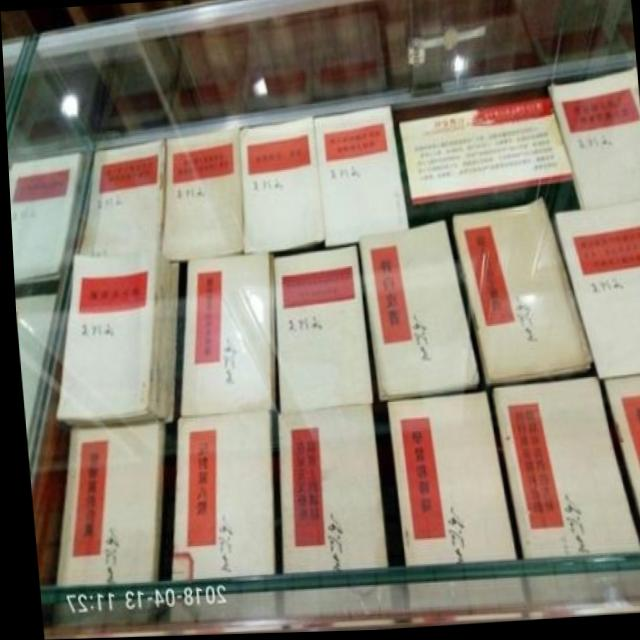box: (489, 380, 637, 566), (448, 204, 589, 388), (384, 395, 512, 573), (52, 253, 175, 428), (354, 226, 472, 403), (396, 102, 572, 210), (46, 421, 158, 590), (273, 405, 380, 580), (165, 411, 265, 584), (273, 250, 371, 417), (173, 256, 272, 418), (554, 201, 640, 381), (312, 109, 406, 250), (546, 69, 640, 209), (238, 118, 321, 255), (74, 142, 162, 258), (161, 136, 239, 259), (7, 161, 80, 285), (600, 378, 640, 542)
